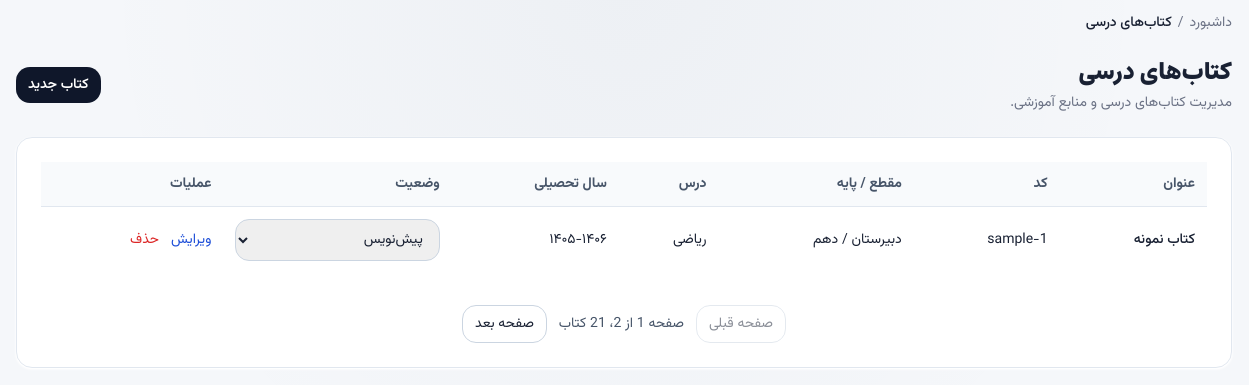
Test: TextbooksPage upload and pagination › returns to the last valid page after deleting its only book
Expected: the text "کتاب نمونه" is shown, [1060,206,1207,273]
Click the button "صفحه بعد" at (504, 324), box [462,305,547,343]
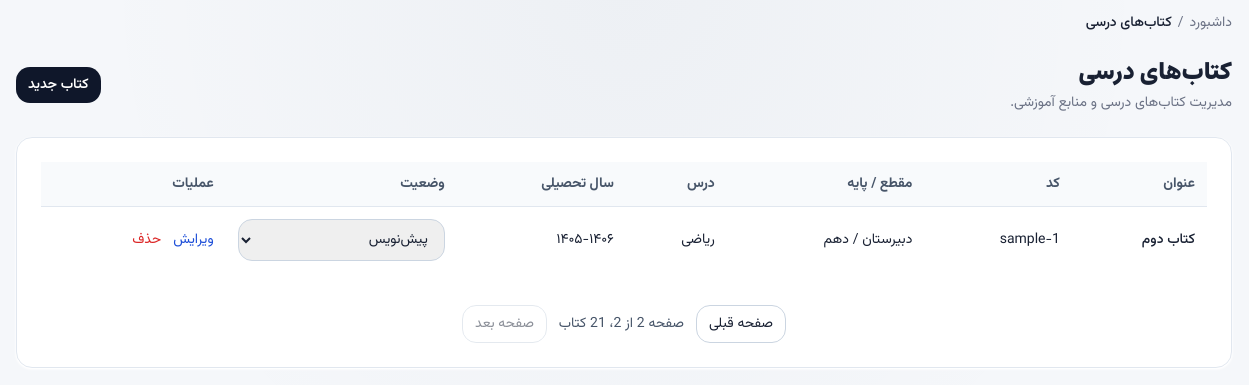
Now the text "کتاب دوم" is shown, box [1072,206,1207,273]
Click the button "حذف" at (147, 240), box [132,230,161,250]
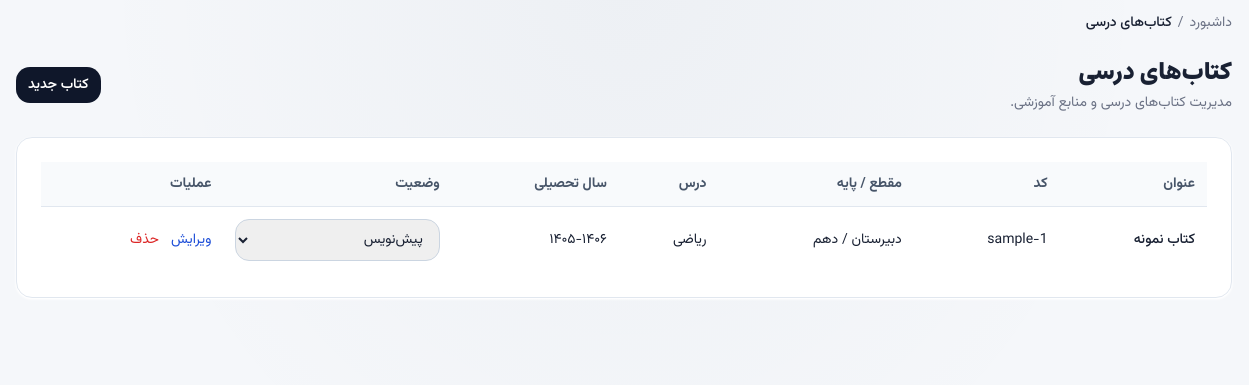
Now the text "کتاب نمونه" is shown, box [1060,206,1207,273]
